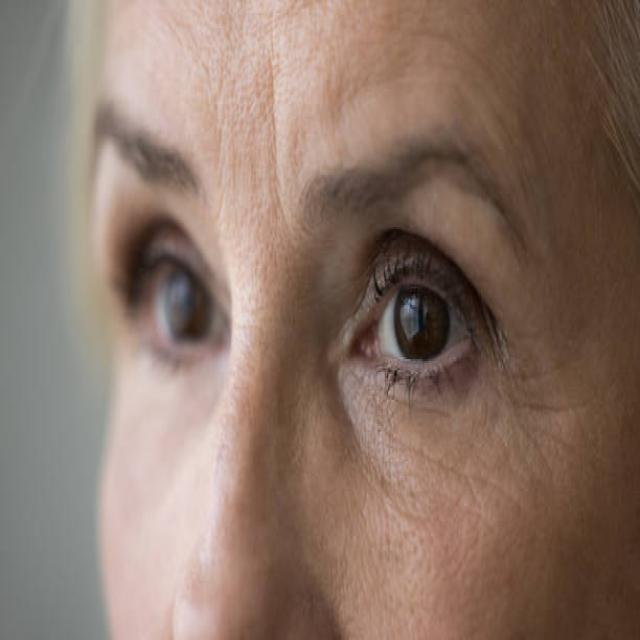Dry-Skin: (187, 42, 334, 377), (413, 44, 486, 479), (195, 509, 470, 595), (308, 411, 604, 472), (369, 44, 447, 230), (166, 411, 416, 450), (361, 513, 488, 585)
